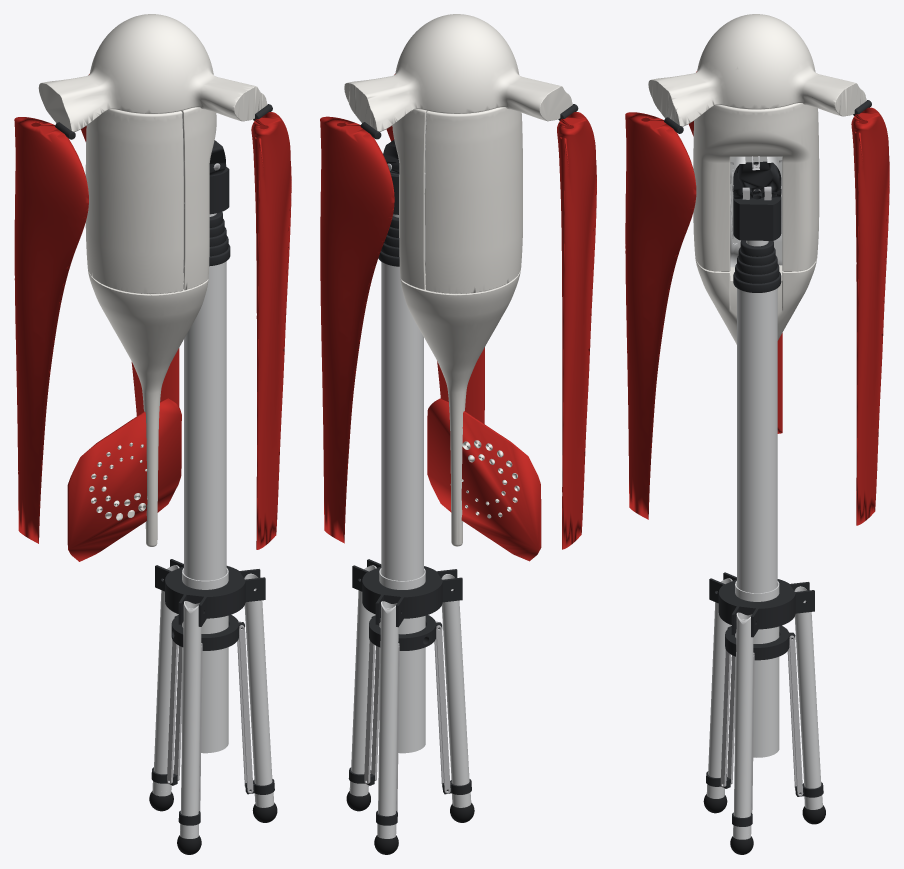
File: aura.glb
The picture shows the model from 3 angles, left to right: view 1: azimuth 30°, elevation 25°; view 2: azimuth 150°, elevation 25°; view 3: azimuth 270°, elevation 25°; orthographic projection. The views are drawn at different scales.
Parts seen in each view (by area): view 1: blade0, pod_top, spinner, blade1, mast_45, tail_fin, tail_unit, pod_tub, leg2_outer, centre_column, leg0_outer, leg1_outer (+10 smaller); view 2: blade2, pod_top, spinner, blade0, mast_45, tail_fin, tail_unit, pod_tub, leg1_outer, centre_column, leg2_outer, leg0_outer (+8 smaller); view 3: blade1, pod_tub, spinner, mast_45, blade2, leg0_outer, centre_column, leg1_outer, tail_unit, leg2_outer, mast_top_block, tripod_hub (+9 smaller).
Boxes of the visible parts, box(x1,y1,x2,y2) form: blade0: box(14, 117, 88, 543); pod_top: box(85, 109, 183, 294); spinner: box(38, 14, 267, 131); blade1: box(251, 112, 291, 549); mast_45: box(184, 261, 226, 580); tail_fin: box(67, 398, 181, 561); tail_unit: box(88, 270, 208, 546); pod_tub: box(181, 107, 216, 290); leg2_outer: box(180, 601, 201, 816); centre_column: box(182, 568, 228, 753); leg0_outer: box(244, 573, 272, 785); leg1_outer: box(154, 565, 179, 774); blade2: box(320, 116, 394, 543); pod_top: box(425, 107, 522, 293); spinner: box(344, 14, 572, 131); blade0: box(557, 112, 596, 549); mast_45: box(381, 262, 423, 580); tail_fin: box(427, 398, 541, 561); tail_unit: box(400, 269, 520, 546); pod_tub: box(392, 109, 427, 289); leg1_outer: box(378, 601, 398, 816); centre_column: box(379, 568, 425, 753); leg2_outer: box(441, 574, 469, 785); leg0_outer: box(351, 565, 376, 774); blade1: box(625, 112, 696, 519); pod_tub: box(693, 103, 819, 271); spinner: box(648, 14, 866, 126); mast_45: box(737, 288, 777, 593); blade2: box(851, 107, 889, 525); leg0_outer: box(733, 612, 753, 817); centre_column: box(735, 581, 779, 757); leg1_outer: box(794, 586, 821, 788); tail_unit: box(695, 257, 817, 344); leg2_outer: box(708, 578, 732, 777); mast_top_block: box(733, 193, 781, 240); tripod_hub: box(718, 579, 795, 629).
Bounding box in the file's own units: 0.2969 × 0.9579 × 0.2922.
